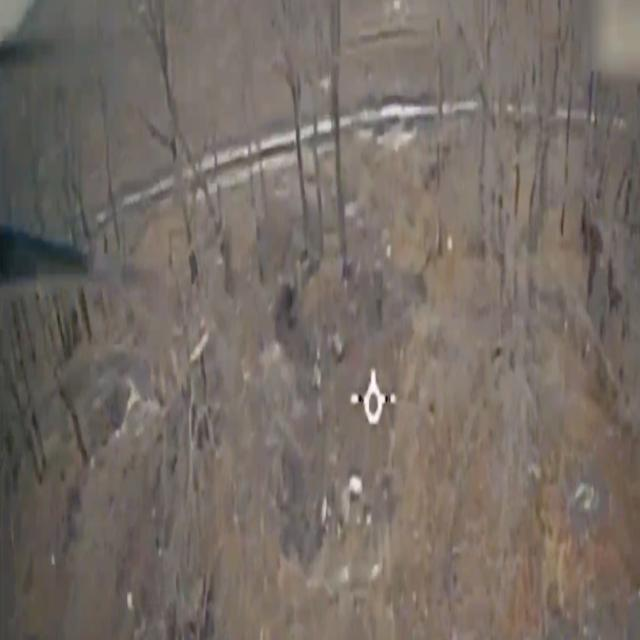infantry: (187, 244, 201, 294)
